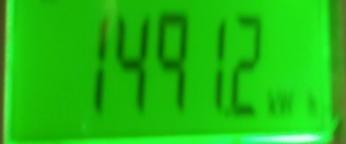.: (266, 90, 318, 116)
0: (224, 105, 231, 116)
2: (89, 12, 110, 115), (212, 20, 223, 114)
3: (231, 16, 263, 115)
5: (116, 14, 150, 112)
:: (155, 13, 189, 109)
